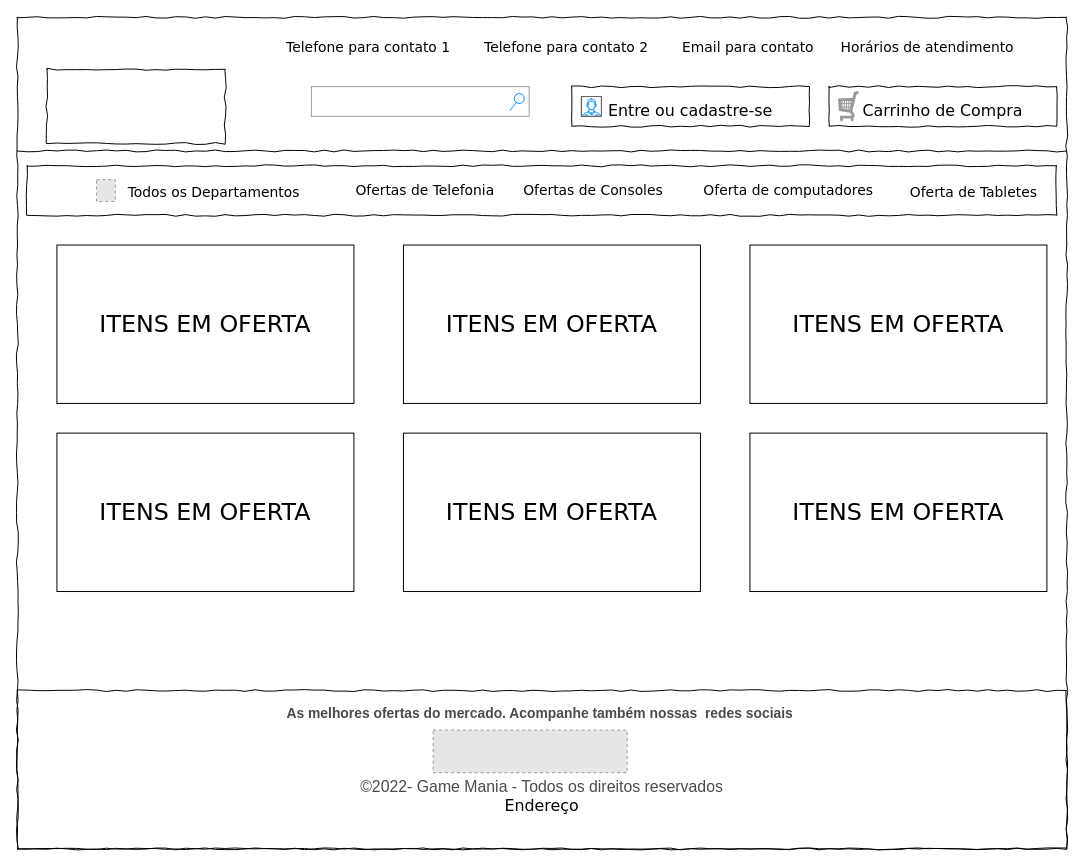
The diagram is 1084 pixels wide and 866 high, and some of its shapes have lost their labels. Grey dashed boxes stand in for pictures. Each missing label, with the box of its shape:
GAME MANIA: (46, 68, 225, 144)
O que deseja encontrar?: (310, 86, 529, 116)
